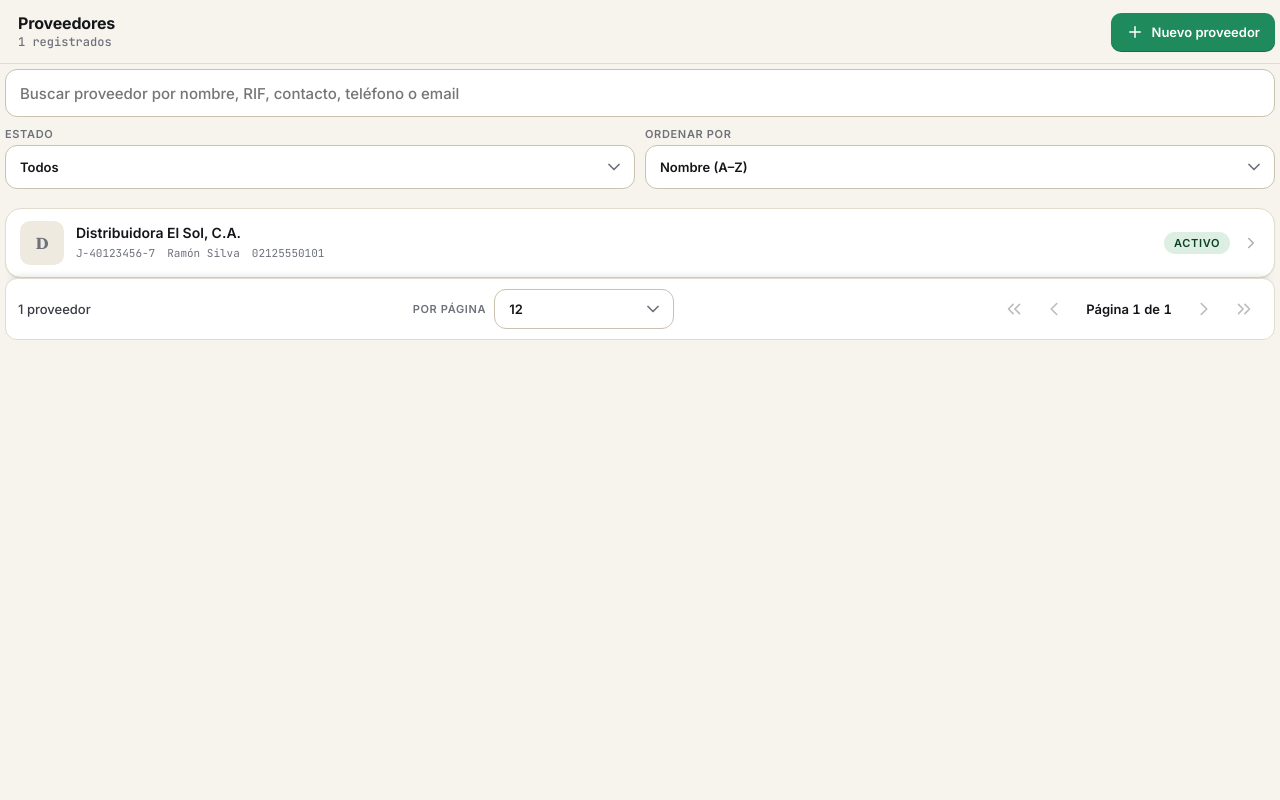
Test case: Registrar compra — the two amount fields mirror each other › typing a Bs total fills the $ field at the current rate
Click the text "Distribuidora El Sol, C.A." at (42, 243), box [6,209,1274,277]
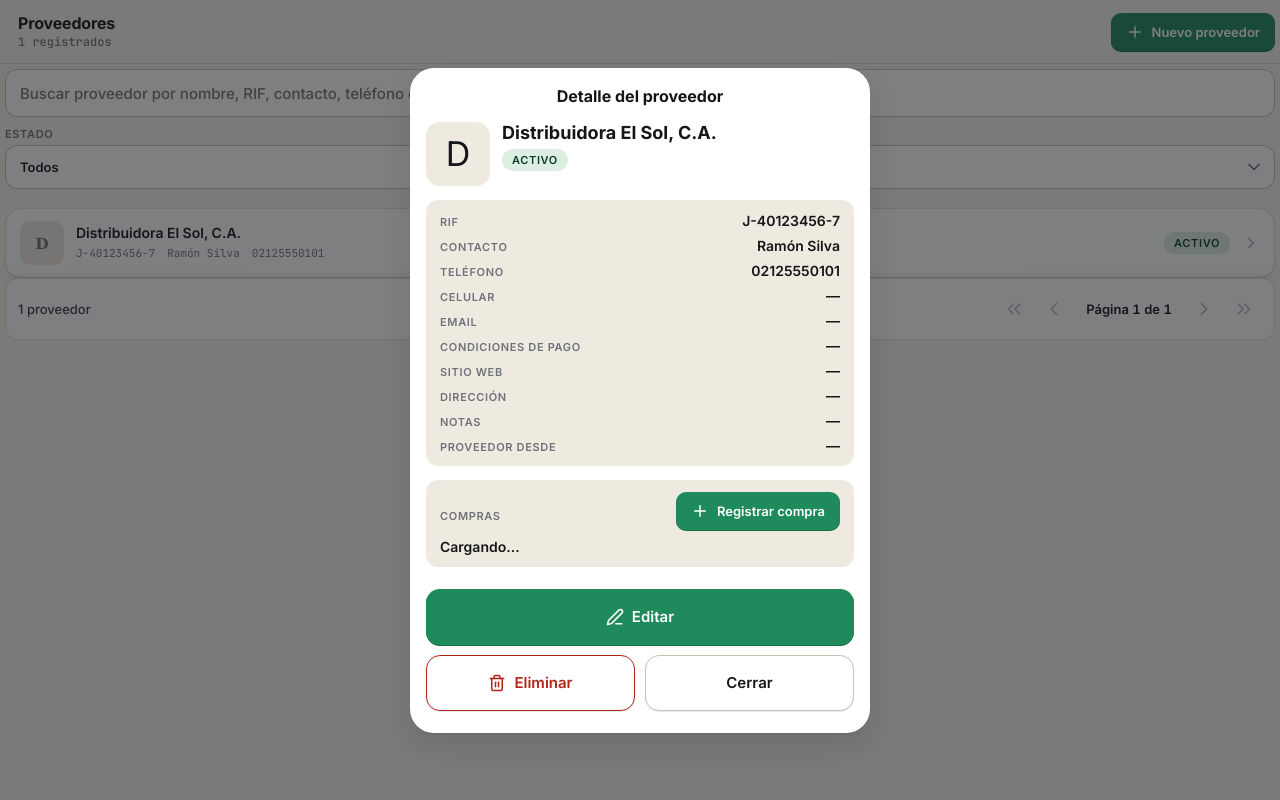
Click the button "Registrar compra" at (758, 510), box [676,492,840,530]
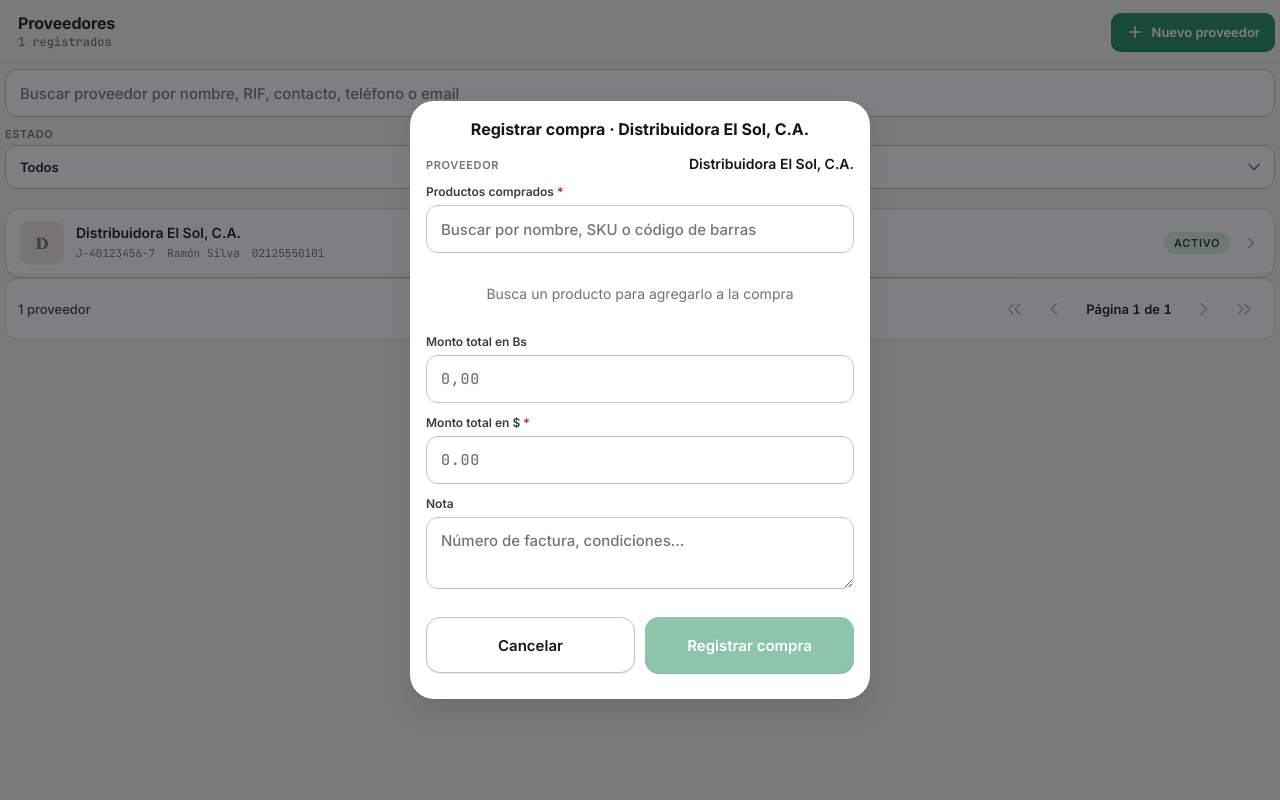
Type "365" into the field labelled "Monto total en Bs" at (640, 379), box [426,355,854,403]
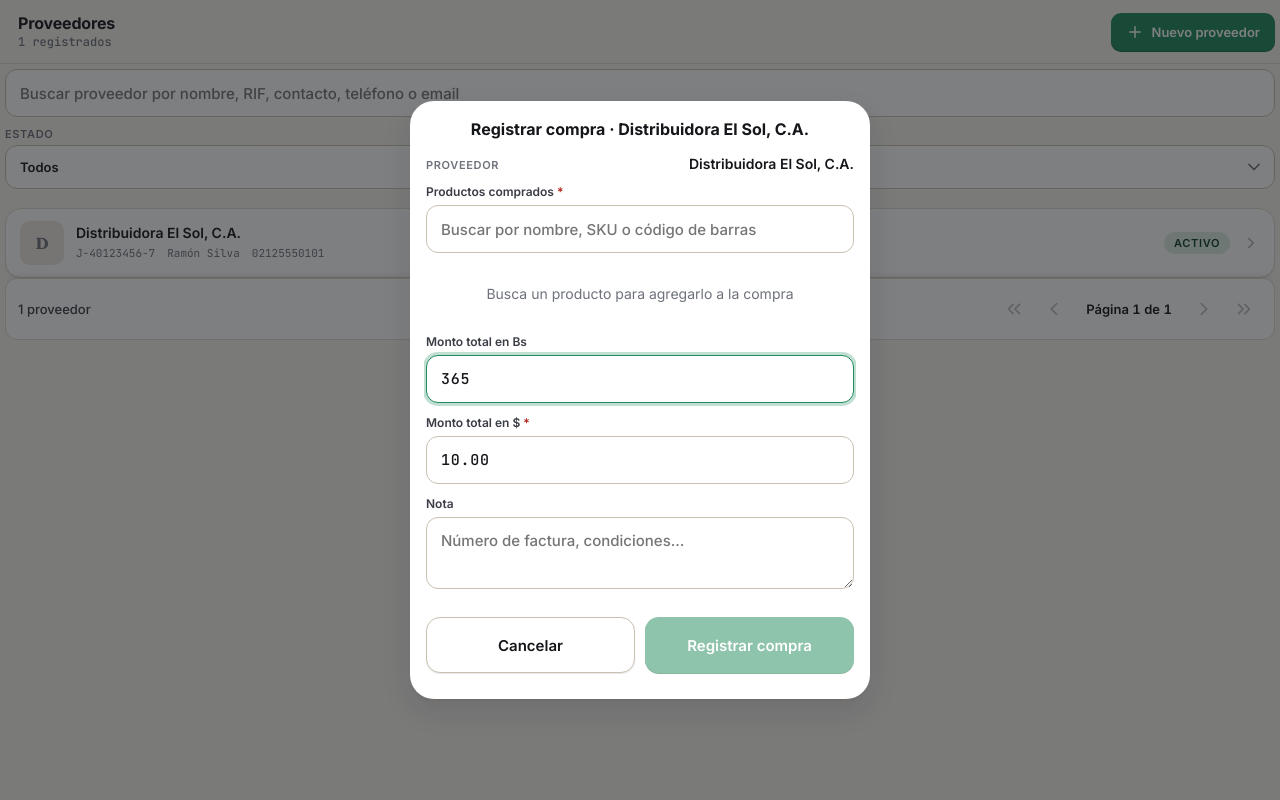
Check: the field labelled "Monto total en $ *" holds "10.00", box [426,436,854,484]
